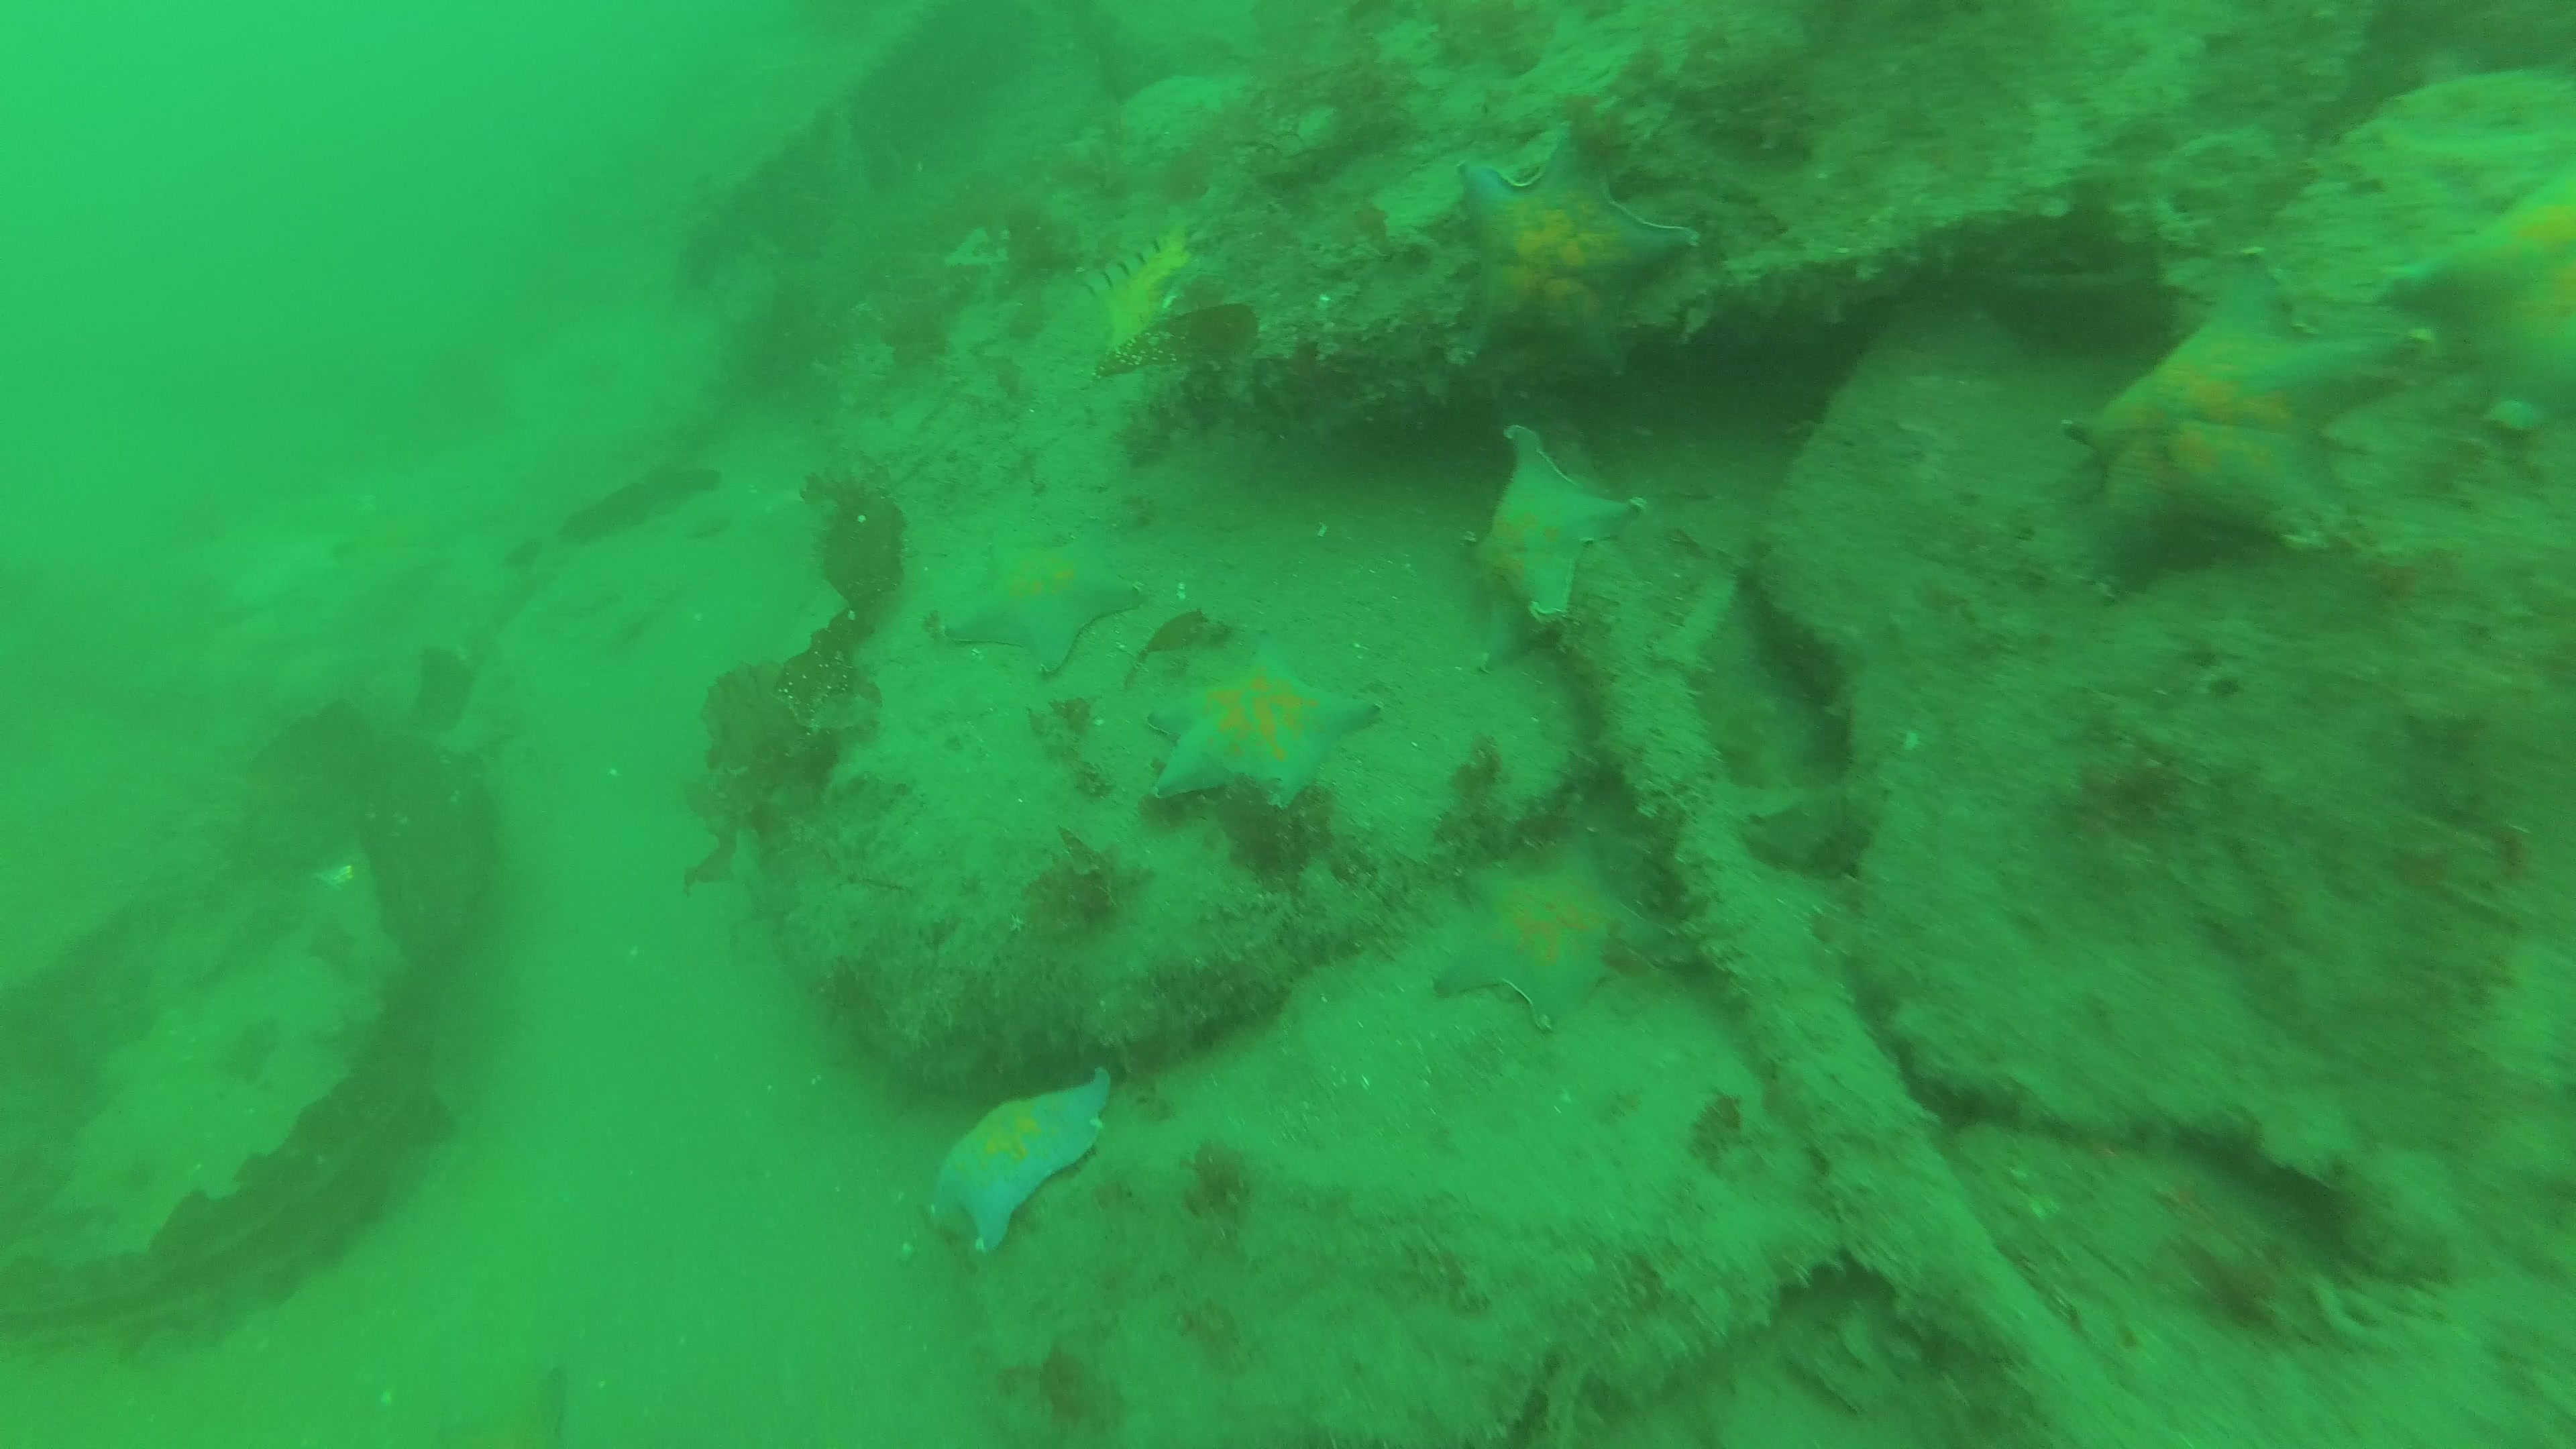starfish: (2054, 241, 2424, 600), (1422, 127, 1691, 403), (1415, 437, 1642, 672), (2396, 149, 2576, 442), (1435, 840, 1665, 1035), (1146, 642, 1378, 819), (913, 1069, 1113, 1254), (927, 520, 1152, 683)
